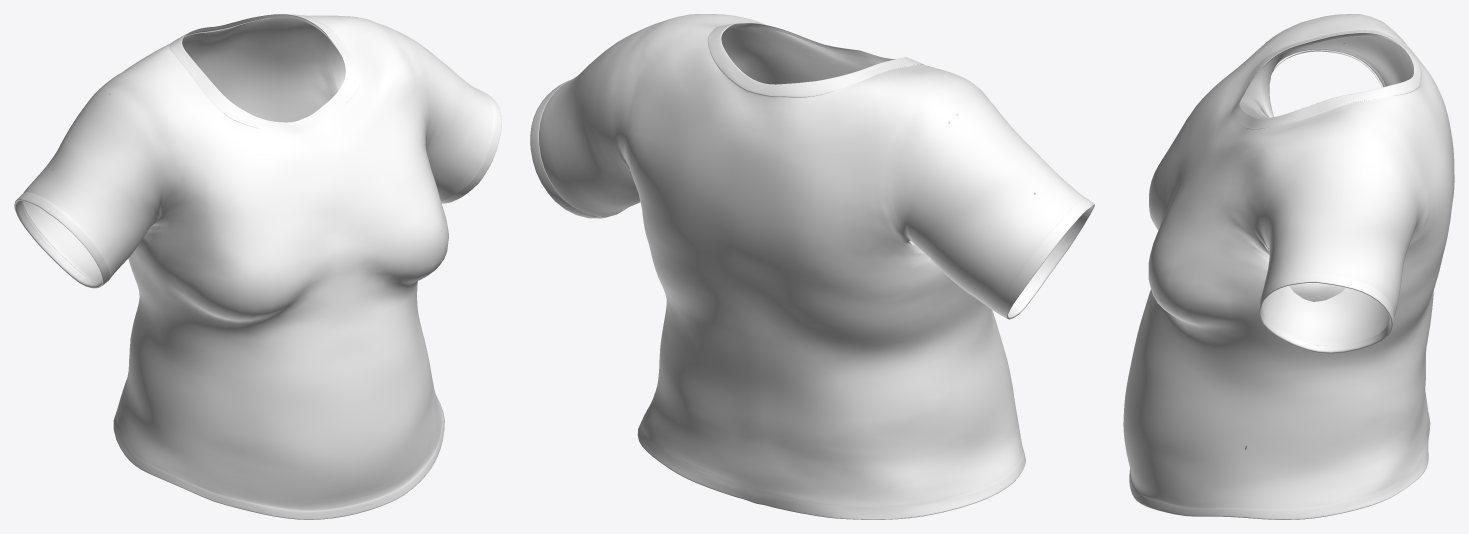
File: Shirt.glb
The picture shows the model from 3 angles, left to right: view 1: azimuth 30°, elevation 25°; view 2: azimuth 150°, elevation 25°; view 3: azimuth 270°, elevation 25°; orthographic projection. The views are drawn at different scales.
Visible parts, largest first — view 1: TShirt_for_Genesis.002; view 2: TShirt_for_Genesis.002; view 3: TShirt_for_Genesis.002.
Part boxes in pixels (bbox=[...]): TShirt_for_Genesis.002: bbox=[14, 14, 501, 519]; TShirt_for_Genesis.002: bbox=[530, 14, 1094, 519]; TShirt_for_Genesis.002: bbox=[1123, 14, 1454, 519].
Size of the model in its own units: 13.07 by 10.97 by 7.87.
Materials: 1 (1 with a texture image).
